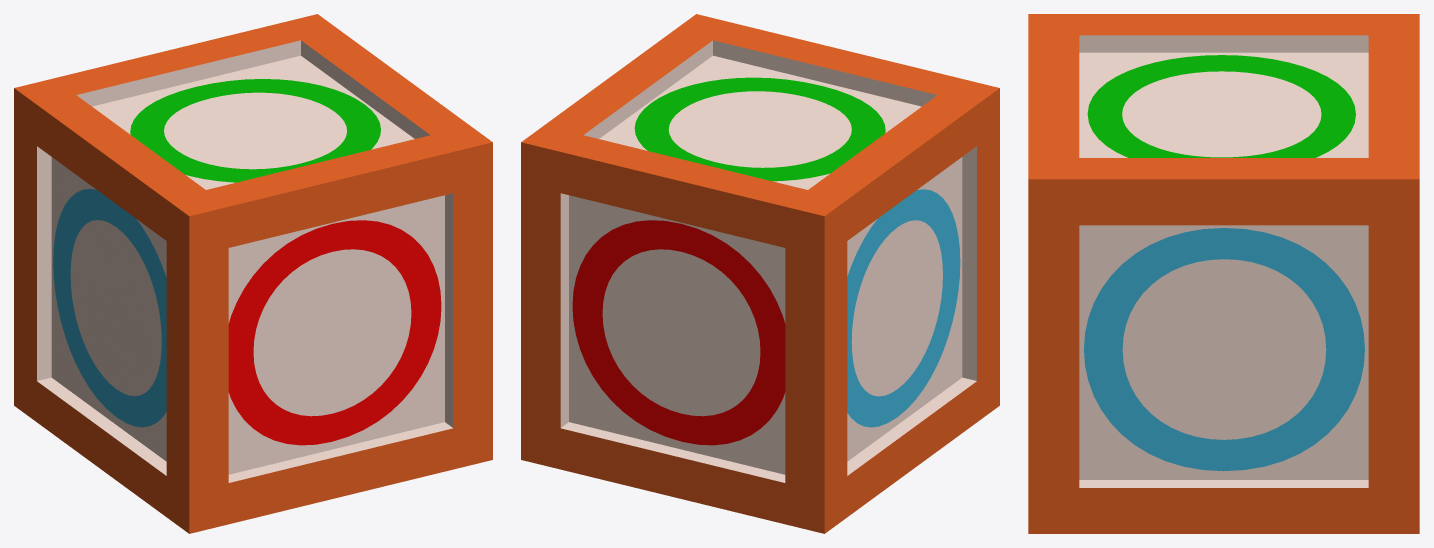
File: Prop_KidsCube_O.fbx
3 renders of one model, left to right at view 1: azimuth 30°, elevation 25°; view 2: azimuth 150°, elevation 25°; view 3: azimuth 270°, elevation 25°, orthographic. The views are drawn at different scales.
Parts seen in each view (by area): view 1: Prop_KidsCube_O; view 2: Prop_KidsCube_O; view 3: Prop_KidsCube_O.
Boxes of the visible parts, box(x1,y1,x2,y2) form: Prop_KidsCube_O: box(14, 14, 492, 533); Prop_KidsCube_O: box(521, 14, 999, 533); Prop_KidsCube_O: box(1028, 14, 1419, 533).
Size of the model in its own units: 20.93 by 20.93 by 20.93.
